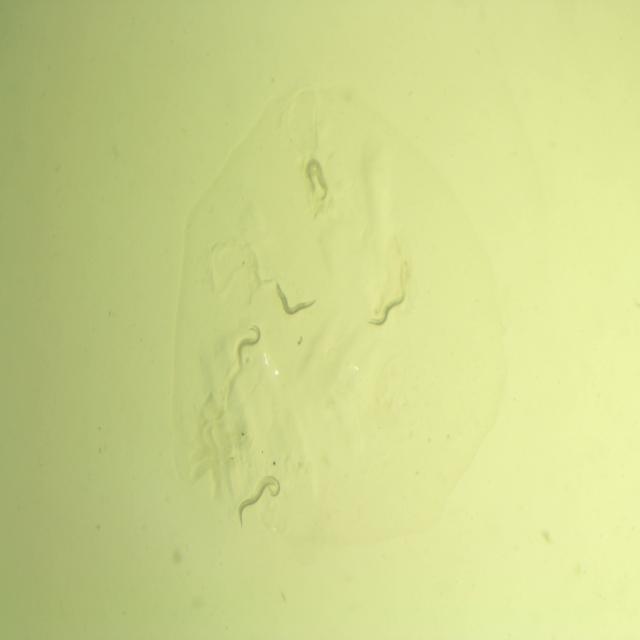worm: (267, 272, 324, 321), (365, 281, 410, 340), (236, 478, 284, 529), (233, 318, 266, 373), (301, 148, 330, 207), (246, 472, 285, 505)
